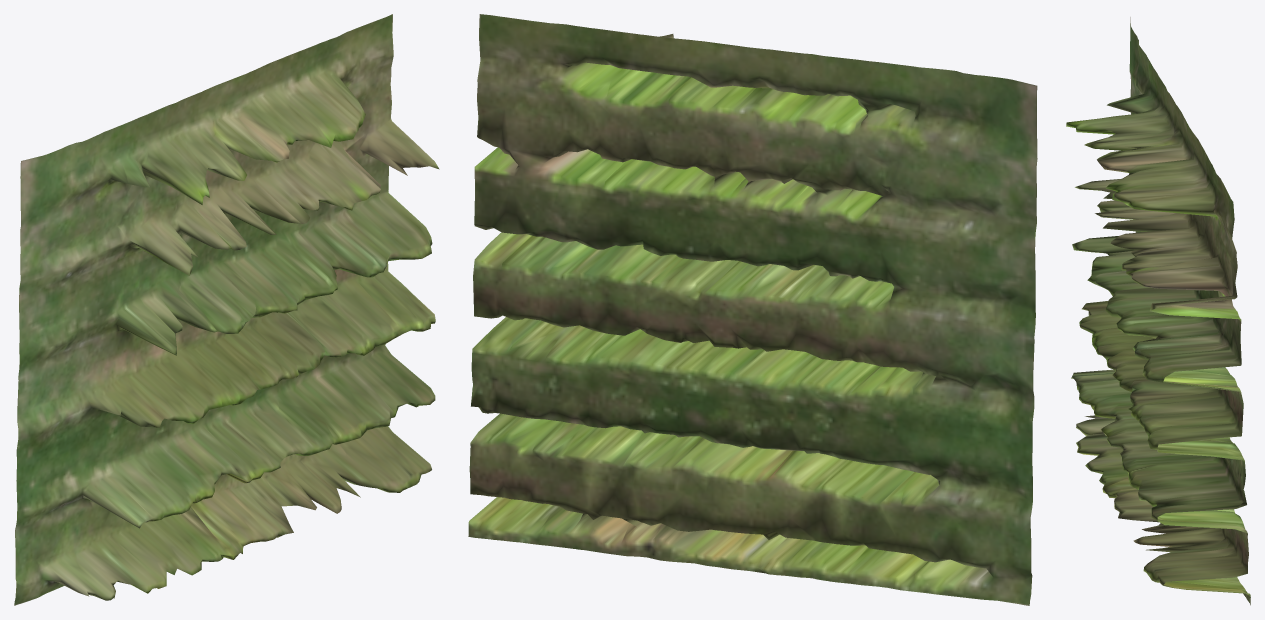
The model's file is map_240_20.obj.
3 renders of one model, left to right at view 1: azimuth 30°, elevation 25°; view 2: azimuth 150°, elevation 25°; view 3: azimuth 270°, elevation 25°, orthographic. The views are drawn at different scales.
Bounding box in the file's own units: 10 × 10 × 4.15.
Materials: 1 (1 with a texture image).
